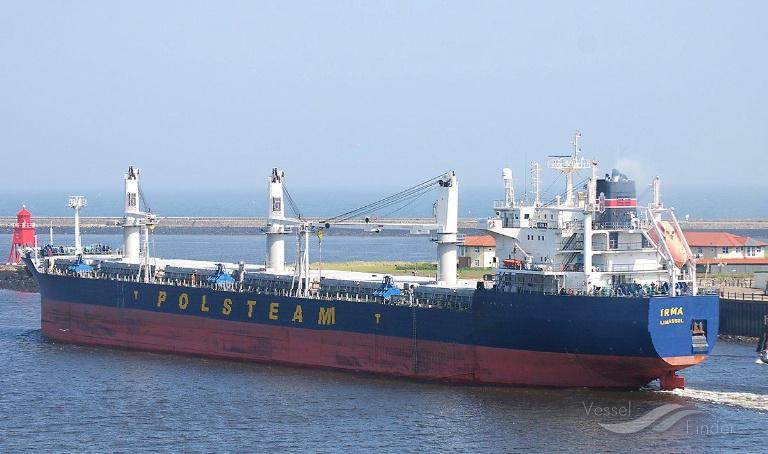OCR: (145, 284, 335, 330), (647, 302, 695, 332)
